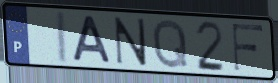2: (193, 19, 226, 73)
A: (71, 14, 114, 65)
F: (231, 22, 266, 73)
I: (56, 9, 70, 66)
N: (113, 15, 149, 68)
Q: (151, 17, 190, 70)
